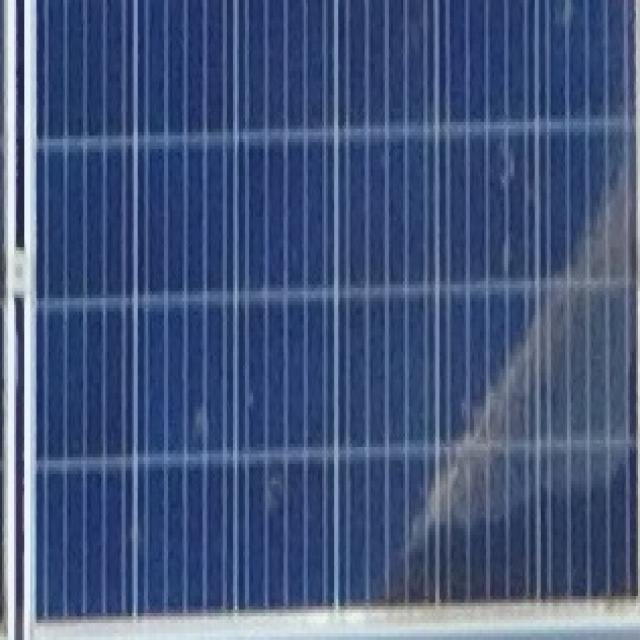Dust: (380, 171, 640, 604)
